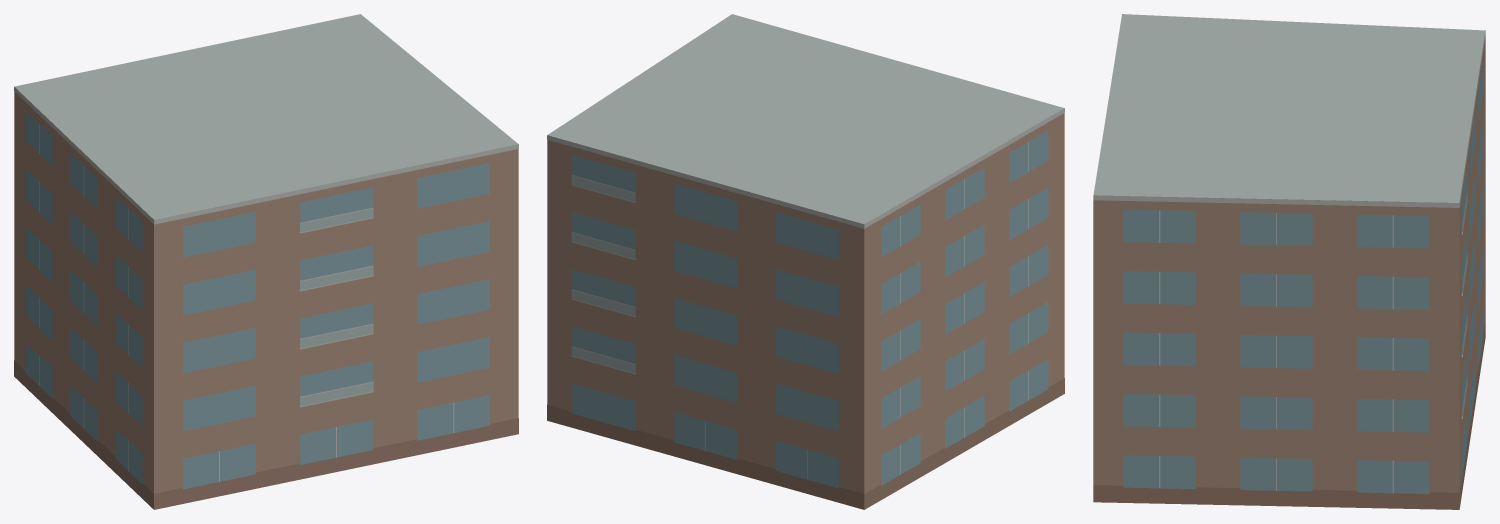
The model's file is survey-upis-32833479.glb.
3 renders of one model, left to right at view 1: azimuth 30°, elevation 25°; view 2: azimuth 150°, elevation 25°; view 3: azimuth 270°, elevation 25°, orthographic. The views are drawn at different scales.
Visible parts, largest first — view 1: survey-upis-32833479.tmp; view 2: survey-upis-32833479.tmp; view 3: survey-upis-32833479.tmp.
Part boxes in pixels (x1,y1,x2,y2): survey-upis-32833479.tmp: (14, 14, 518, 509); survey-upis-32833479.tmp: (547, 14, 1064, 509); survey-upis-32833479.tmp: (1093, 14, 1485, 509).
Size of the model in its own units: 20.16 by 15.25 by 17.67.
